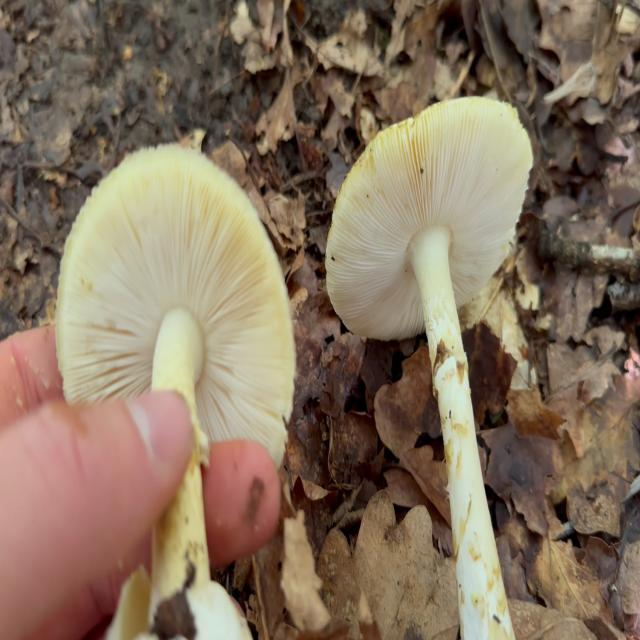death-cap: (53, 141, 297, 640), (324, 94, 535, 640)
